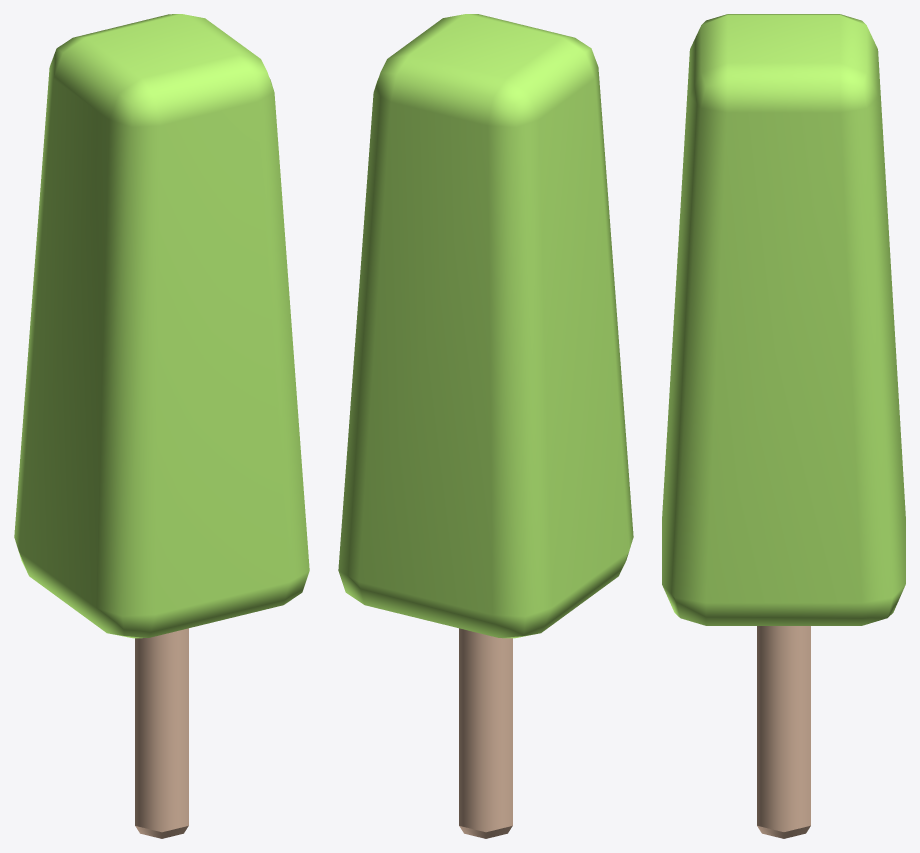
File: HandAcc_4.fbx
The picture shows the model from 3 angles, left to right: view 1: azimuth 30°, elevation 25°; view 2: azimuth 150°, elevation 25°; view 3: azimuth 270°, elevation 25°; orthographic projection.
Visible parts, largest first — view 1: HandAcc_4; view 2: HandAcc_4; view 3: HandAcc_4.
Part boxes in pixels (x1,y1,x2,y2): HandAcc_4: (14, 14, 309, 838); HandAcc_4: (338, 14, 633, 838); HandAcc_4: (662, 14, 905, 838).
Size of the model in its own units: 10.17 by 36.29 by 10.17.
